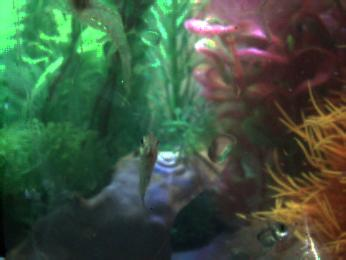X-ray fish: (213, 214, 297, 257), (136, 130, 160, 211)
siberian prawn: (66, 1, 139, 95)
